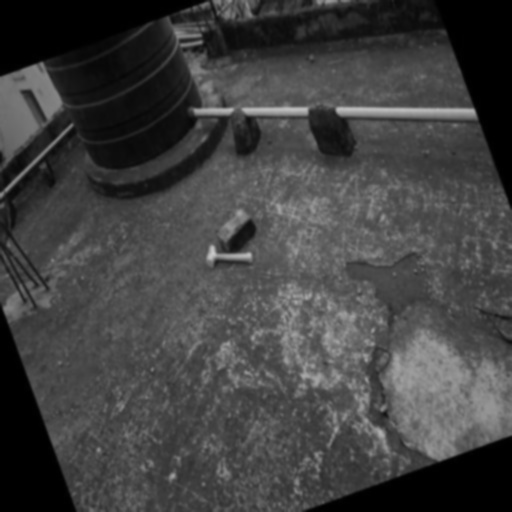mallet: (201, 229, 256, 278)
